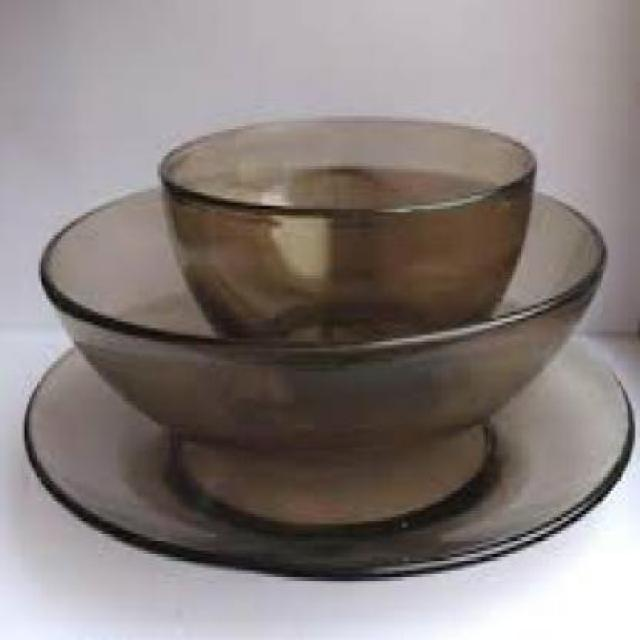kaca: (37, 169, 606, 437), (23, 342, 634, 580), (157, 117, 532, 349)
